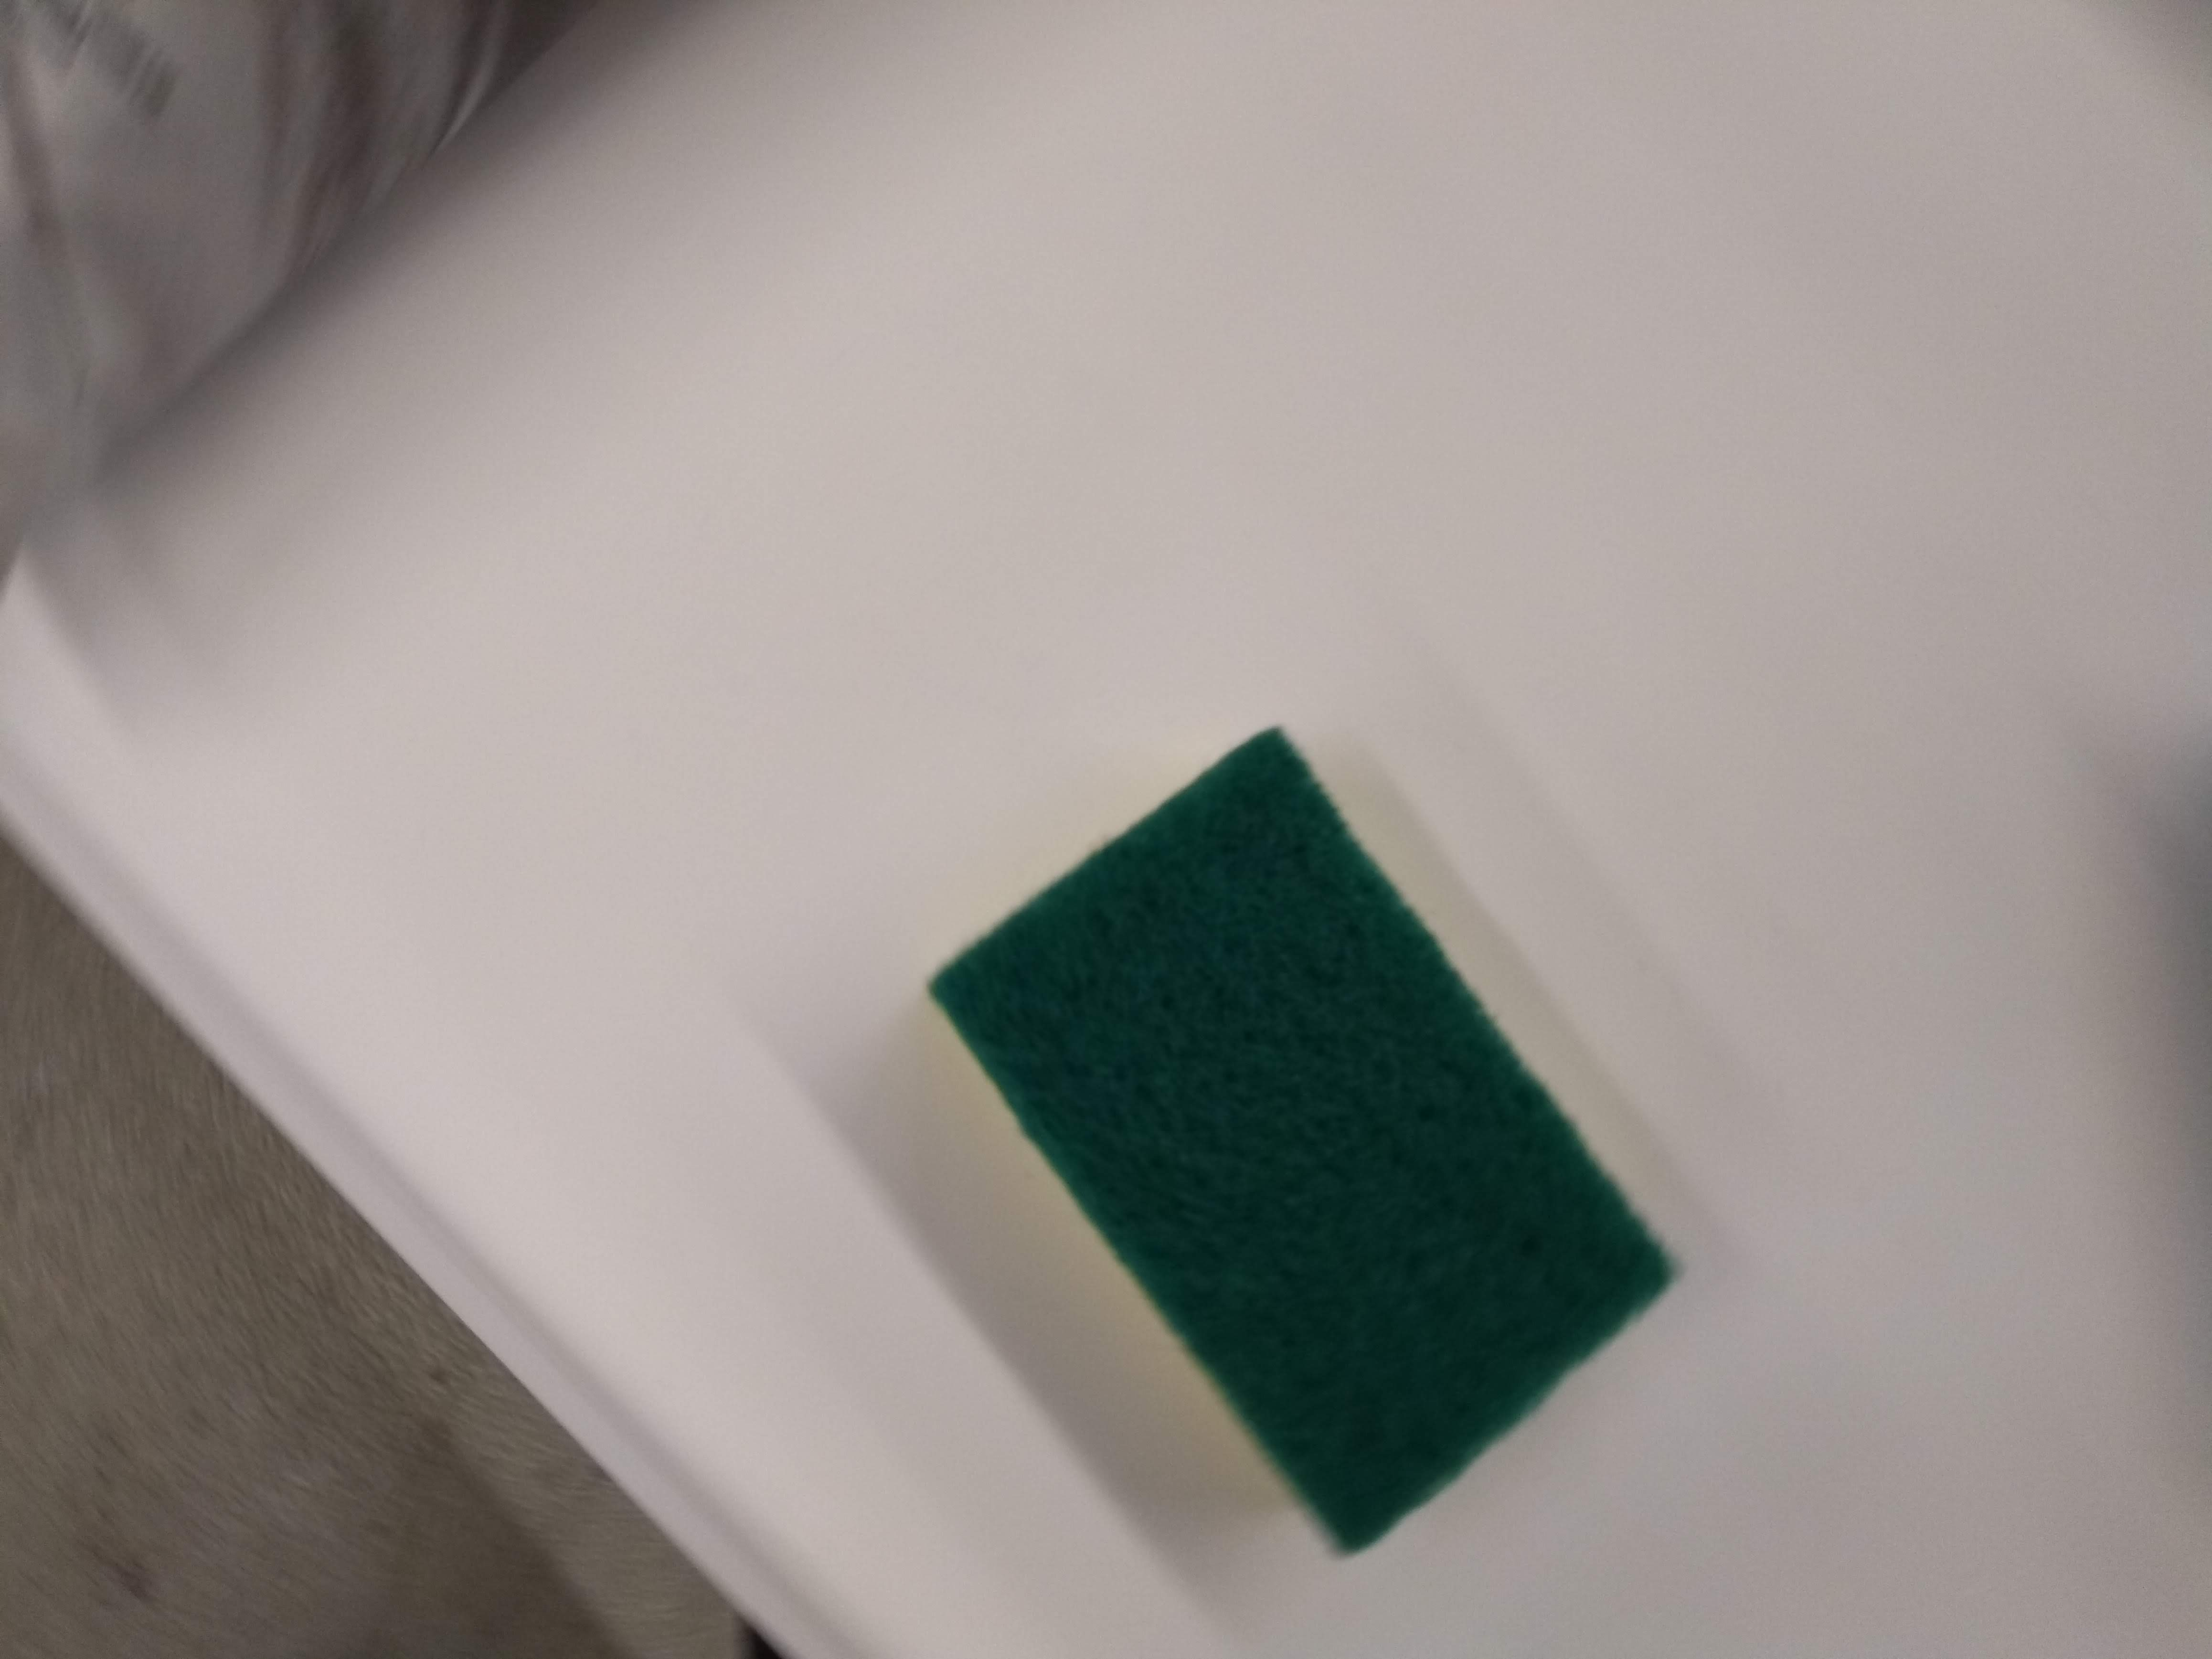scrubby: (897, 706, 1705, 1575)
